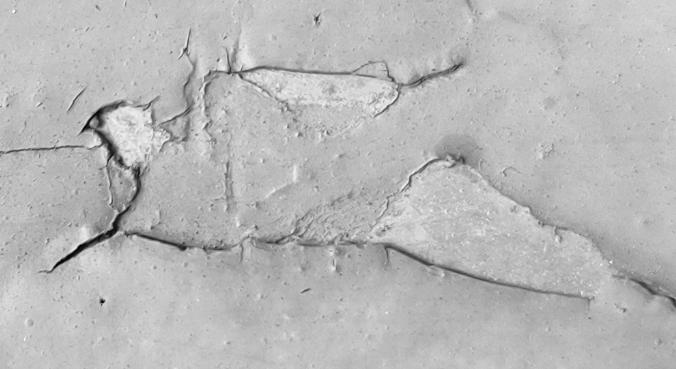paint-off: (1, 1, 676, 369)
